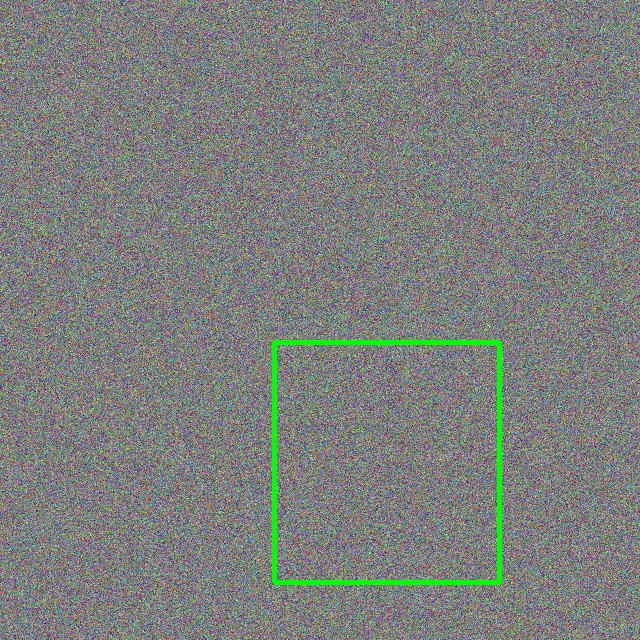base: (274, 342, 499, 582)
